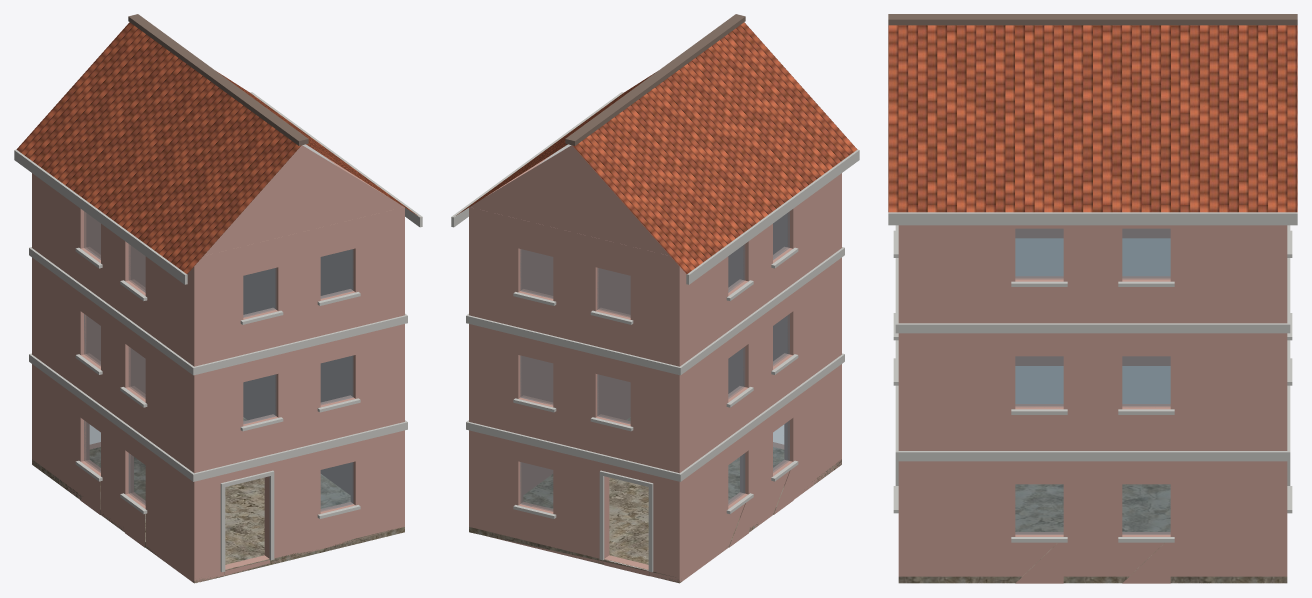
Rendered from cove-house-salmon.zfix-v7.lod1.glb.
The picture shows the model from 3 angles, left to right: view 1: azimuth 30°, elevation 25°; view 2: azimuth 150°, elevation 25°; view 3: azimuth 270°, elevation 25°; orthographic projection. The views are drawn at different scales.
Visible parts, largest first — view 1: cove-house-salmon; view 2: cove-house-salmon; view 3: cove-house-salmon.
Part boxes in pixels (x1=…): cove-house-salmon: x1=14, y1=14, x2=422, y2=583; cove-house-salmon: x1=451, y1=14, x2=859, y2=583; cove-house-salmon: x1=888, y1=14, x2=1297, y2=583.
Size of the model in its own units: 6.78 by 11.47 by 8.42.
Materials: 4 (2 with a texture image).
